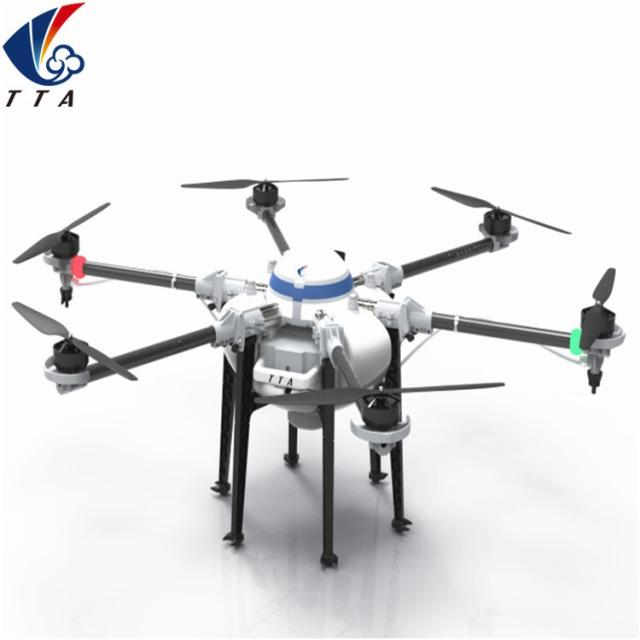drone: (4, 155, 640, 537)
